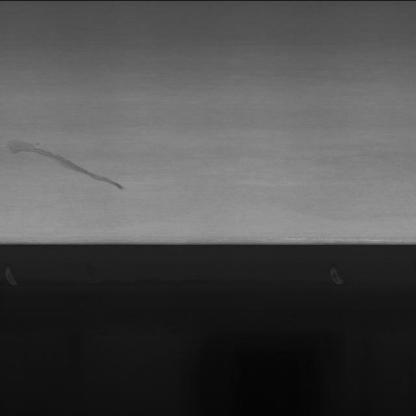water_spot: (6, 132, 138, 192)
